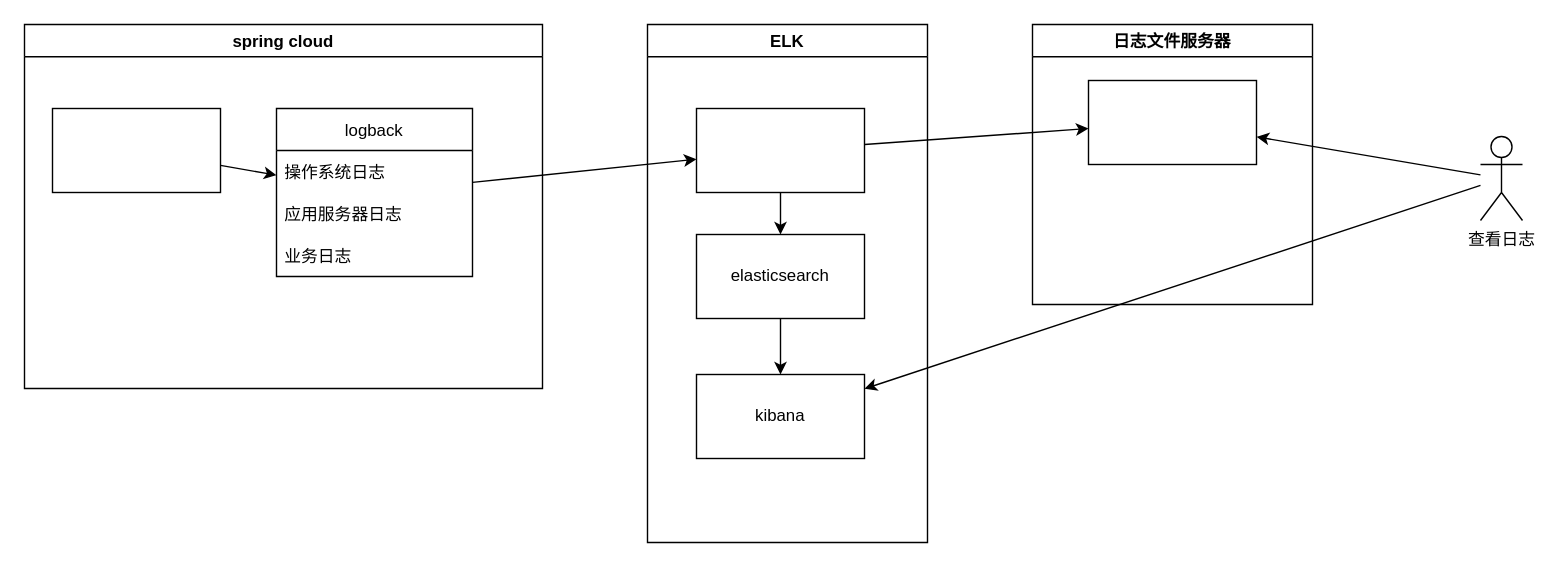
Some shapes in this 1560 by 567 pixel diagram are drawn without their labels. The shapes that lost their labels are listed below. From the top down, each one's centre as x and y in pixels, then its label:
At [1171,121]: "file".
At [135,149]: "Spring 容器".
At [779,149]: "logstash".
